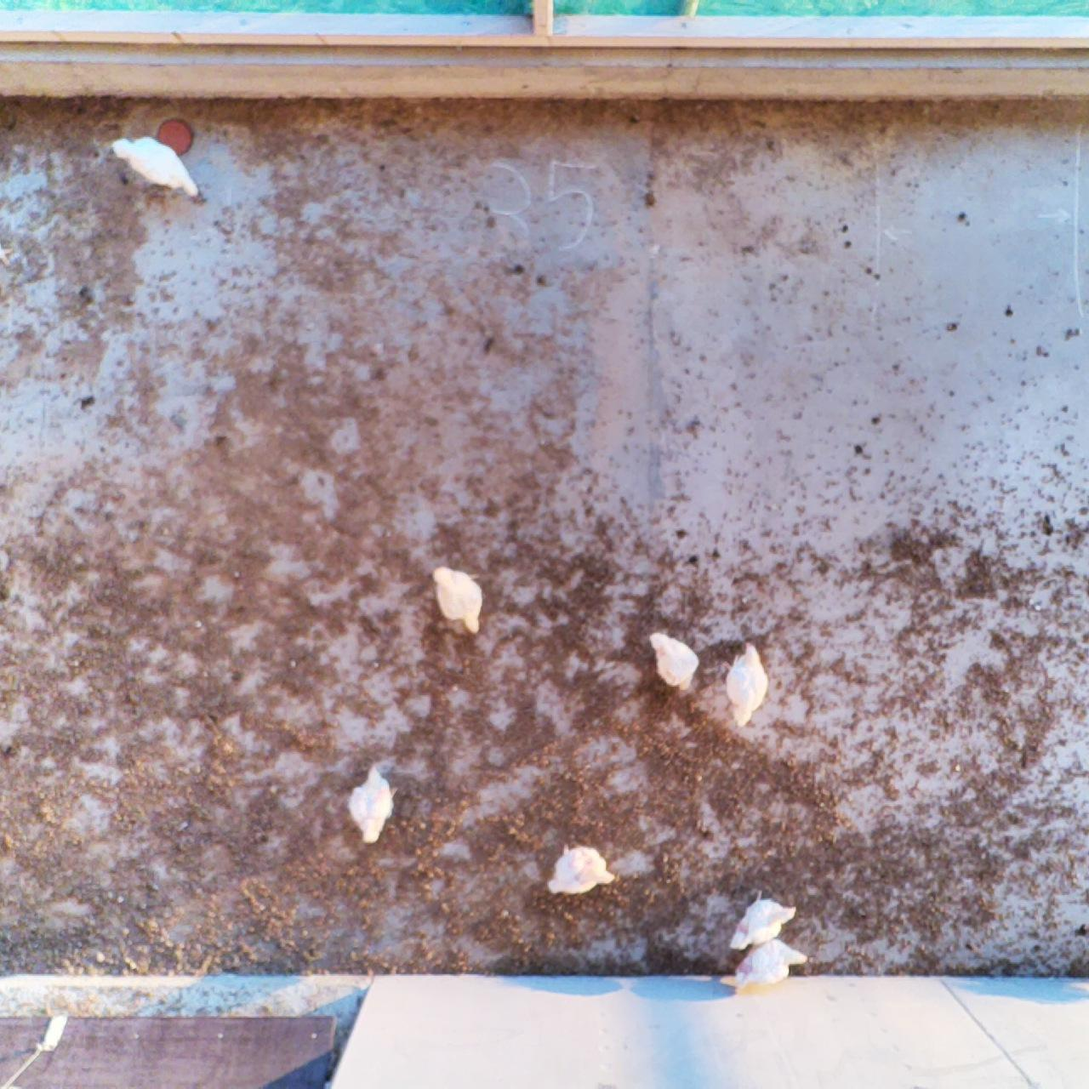chicken: (106, 132, 202, 203), (730, 889, 800, 952), (426, 565, 486, 637), (350, 761, 397, 850), (645, 625, 701, 699), (724, 642, 770, 728), (548, 840, 616, 898), (736, 938, 807, 990)
